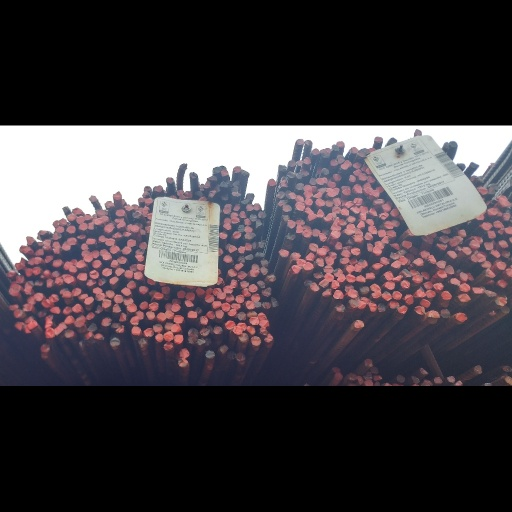dipstick: (495, 297, 508, 306), (238, 333, 249, 343), (173, 334, 184, 344), (163, 331, 173, 342), (358, 148, 370, 157), (421, 235, 433, 244), (36, 231, 49, 239), (104, 223, 114, 233), (251, 336, 261, 346), (179, 348, 189, 358), (120, 286, 130, 296), (44, 278, 54, 288), (392, 290, 402, 300), (63, 274, 74, 283), (499, 198, 510, 207), (438, 235, 449, 244), (440, 309, 451, 318), (459, 283, 470, 292), (19, 245, 31, 253), (458, 293, 470, 301), (262, 287, 271, 297), (225, 320, 235, 329), (174, 315, 184, 324), (156, 312, 166, 321), (149, 302, 159, 311), (127, 303, 137, 312), (133, 271, 143, 280), (89, 270, 99, 279), (71, 287, 81, 296), (44, 328, 54, 337), (101, 317, 111, 326), (295, 202, 305, 211), (331, 230, 341, 239), (385, 281, 395, 290), (333, 290, 343, 299), (349, 298, 358, 308), (470, 240, 480, 249), (442, 291, 452, 300), (486, 268, 495, 278), (62, 306, 73, 314), (303, 262, 314, 270), (354, 274, 365, 282), (412, 275, 423, 283), (405, 294, 413, 305), (414, 306, 425, 314), (428, 310, 439, 318), (9, 282, 21, 289), (481, 223, 493, 230), (485, 289, 497, 296), (61, 241, 70, 250), (251, 293, 260, 302), (242, 288, 251, 297), (235, 294, 244, 303), (233, 326, 242, 335), (221, 302, 230, 311), (212, 300, 221, 309), (235, 351, 244, 360), (132, 326, 141, 335), (34, 292, 43, 301), (72, 303, 81, 312), (65, 329, 74, 338), (114, 294, 123, 303), (302, 229, 311, 238), (405, 252, 414, 261), (401, 279, 410, 288), (322, 288, 331, 297), (382, 291, 391, 300), (491, 250, 500, 259), (445, 265, 454, 274), (52, 259, 62, 267), (223, 204, 231, 214), (237, 271, 247, 279), (239, 280, 249, 288), (204, 295, 214, 303), (188, 327, 198, 335), (163, 342, 173, 350), (171, 324, 181, 332), (143, 328, 153, 336), (121, 246, 131, 254), (102, 268, 112, 276), (23, 304, 33, 312), (118, 312, 126, 322), (94, 293, 104, 301), (372, 247, 382, 255), (319, 279, 329, 287), (324, 273, 334, 281), (391, 260, 401, 268), (413, 258, 423, 266), (416, 290, 426, 298), (348, 290, 358, 298), (344, 283, 354, 291), (335, 304, 345, 312), (354, 320, 364, 328), (389, 300, 399, 308), (477, 187, 487, 195), (450, 277, 460, 285), (245, 233, 256, 240), (285, 233, 296, 240), (286, 192, 297, 199), (365, 272, 376, 279), (26, 237, 35, 245), (27, 257, 35, 266), (212, 165, 221, 173), (227, 269, 236, 277), (248, 284, 257, 292), (225, 294, 234, 302), (237, 312, 246, 320), (247, 326, 255, 335), (215, 310, 224, 318), (196, 287, 205, 295), (185, 292, 194, 300), (200, 316, 208, 325), (200, 328, 209, 336), (214, 326, 223, 334), (188, 336, 197, 344), (219, 345, 228, 353), (178, 359, 187, 367), (165, 311, 174, 319), (153, 324, 162, 332), (155, 333, 163, 342), (146, 311, 154, 320), (139, 286, 148, 294), (130, 316, 138, 325), (127, 239, 136, 247), (110, 245, 119, 253), (92, 260, 101, 268), (125, 270, 133, 279), (115, 268, 124, 276), (28, 321, 37, 329), (27, 296, 35, 305), (49, 294, 58, 302), (65, 316, 74, 324), (85, 312, 94, 320), (41, 343, 50, 351), (88, 323, 97, 331), (83, 332, 92, 340), (112, 303, 120, 312), (102, 299, 110, 308), (109, 276, 118, 284), (105, 290, 114, 298), (276, 191, 285, 199), (282, 204, 291, 212), (279, 249, 288, 257), (311, 228, 320, 236), (308, 243, 317, 251), (354, 228, 363, 236), (306, 252, 314, 261), (296, 259, 305, 267), (346, 274, 355, 282), (346, 264, 355, 272), (384, 272, 393, 280), (369, 302, 377, 311), (378, 303, 386, 312), (398, 305, 407, 313), (421, 299, 430, 307), (449, 239, 458, 247), (462, 246, 471, 254), (488, 230, 496, 239), (437, 260, 445, 269), (497, 261, 506, 269), (498, 279, 507, 287), (501, 250, 510, 258), (474, 364, 482, 373), (396, 374, 405, 382), (348, 372, 357, 380), (15, 262, 25, 269), (6, 271, 16, 278), (115, 209, 125, 216), (249, 270, 259, 277), (271, 297, 278, 307), (247, 310, 257, 317), (249, 317, 259, 324), (171, 304, 181, 311), (77, 273, 87, 280), (24, 280, 34, 287), (23, 316, 33, 323), (84, 297, 94, 304), (50, 307, 60, 314), (74, 320, 84, 327), (94, 333, 104, 340), (110, 339, 120, 346), (86, 280, 96, 287), (295, 218, 305, 225), (315, 199, 325, 206), (379, 212, 389, 219), (344, 228, 354, 235), (353, 235, 363, 242), (402, 241, 412, 248), (400, 255, 407, 265), (426, 291, 436, 298), (371, 291, 381, 298), (503, 212, 510, 222), (494, 221, 504, 228), (457, 230, 467, 237), (447, 251, 457, 258), (479, 253, 486, 263), (437, 270, 447, 277), (457, 313, 467, 320), (333, 372, 343, 379), (96, 210, 107, 216), (61, 291, 72, 297), (56, 322, 67, 328), (278, 199, 289, 205), (409, 269, 420, 275), (436, 243, 447, 249), (473, 287, 484, 293), (113, 192, 121, 200), (76, 216, 84, 224), (45, 255, 53, 263), (64, 261, 72, 269), (77, 260, 85, 268), (253, 203, 261, 211), (239, 210, 247, 218), (249, 213, 257, 221), (255, 219, 263, 227), (219, 231, 227, 239), (235, 262, 243, 270), (259, 267, 267, 275), (257, 280, 265, 288), (246, 301, 254, 309), (260, 327, 268, 335), (205, 287, 213, 295), (197, 338, 205, 346), (227, 351, 235, 359), (136, 311, 144, 319), (127, 280, 135, 288), (139, 241, 147, 249), (131, 225, 139, 233), (55, 278, 63, 286), (24, 286, 32, 294), (14, 322, 22, 330), (95, 305, 103, 313), (268, 178, 276, 186), (287, 220, 295, 228), (316, 209, 324, 217), (333, 198, 341, 206), (390, 208, 398, 216), (385, 221, 393, 229), (319, 233, 327, 241), (328, 251, 336, 259), (325, 256, 333, 264), (316, 258, 324, 266), (421, 250, 429, 258), (358, 301, 366, 309), (475, 176, 483, 184), (454, 236, 462, 244), (471, 254, 479, 262), (484, 242, 492, 250), (364, 371, 372, 379), (503, 364, 511, 372), (67, 214, 76, 221), (105, 201, 114, 208), (66, 226, 75, 233), (67, 238, 76, 245), (34, 249, 43, 256), (41, 270, 50, 277), (194, 190, 203, 197), (232, 231, 241, 238), (267, 275, 276, 282), (223, 286, 232, 293), (231, 303, 240, 310), (259, 320, 268, 327), (265, 334, 272, 343), (227, 309, 236, 316), (213, 288, 222, 295), (184, 300, 193, 307), (188, 311, 197, 318), (205, 350, 214, 357), (135, 255, 144, 262), (135, 248, 144, 255), (118, 257, 127, 264), (34, 279, 43, 286), (9, 289, 18, 296), (54, 328, 63, 335), (98, 278, 107, 285), (278, 165, 287, 172), (287, 171, 296, 178), (300, 169, 309, 176), (308, 214, 317, 221), (304, 198, 313, 205), (354, 186, 363, 193), (342, 188, 351, 195), (340, 208, 349, 215), (360, 206, 369, 213), (317, 248, 326, 255), (351, 248, 360, 255), (368, 227, 377, 234), (377, 230, 386, 237), (375, 241, 384, 248), (390, 243, 399, 250), (390, 252, 399, 259), (380, 257, 389, 264), (373, 263, 382, 270), (340, 257, 349, 264), (291, 253, 300, 260), (310, 283, 319, 290), (424, 282, 433, 289), (360, 286, 369, 293), (361, 297, 370, 304), (388, 138, 397, 145), (488, 207, 497, 214), (474, 236, 483, 243), (499, 240, 508, 247), (419, 367, 428, 374), (72, 208, 82, 214), (54, 227, 64, 233), (92, 287, 102, 293), (315, 178, 325, 184), (303, 192, 313, 198), (374, 199, 384, 205), (370, 284, 380, 290), (433, 283, 443, 289), (506, 267, 512, 277), (16, 275, 23, 283), (25, 268, 32, 276), (32, 267, 40, 274), (51, 270, 59, 277), (84, 255, 92, 262), (81, 243, 89, 250), (106, 239, 114, 246), (144, 198, 152, 205), (184, 191, 192, 198), (189, 172, 197, 179), (233, 166, 241, 173), (241, 169, 249, 176), (246, 204, 254, 211), (258, 211, 266, 218), (238, 246, 245, 254), (245, 243, 252, 251), (260, 259, 268, 266), (251, 263, 259, 270), (258, 312, 266, 319), (238, 323, 246, 330), (177, 291, 185, 298), (164, 303, 171, 311), (154, 292, 162, 299), (140, 301, 147, 309), (139, 339, 147, 346), (136, 263, 144, 270), (102, 253, 110, 260), (91, 251, 99, 258), (110, 260, 118, 267), (13, 310, 21, 317), (42, 300, 50, 307), (116, 326, 124, 333), (288, 160, 296, 167), (303, 157, 311, 164), (296, 195, 304, 202), (350, 147, 358, 154), (375, 136, 383, 143), (304, 185, 312, 192), (333, 174, 341, 181), (325, 200, 333, 207), (332, 206, 340, 213), (371, 190, 379, 197), (366, 219, 374, 226), (357, 221, 365, 228), (387, 230, 395, 237), (359, 259, 367, 266), (324, 266, 332, 273), (292, 266, 300, 273), (402, 269, 410, 276), (422, 271, 429, 279), (488, 187, 495, 195), (483, 260, 490, 268), (460, 273, 467, 281), (447, 376, 455, 383), (411, 376, 419, 383), (365, 359, 372, 367), (505, 376, 512, 384), (254, 252, 265, 257), (52, 233, 61, 239), (82, 250, 91, 256), (76, 234, 85, 240), (98, 236, 107, 242), (132, 212, 141, 218), (153, 186, 162, 192), (230, 186, 239, 192), (231, 218, 240, 224), (244, 226, 253, 232), (262, 302, 271, 308), (208, 310, 214, 319), (124, 298, 133, 304), (112, 232, 121, 238), (99, 249, 108, 255), (9, 304, 18, 310), (59, 287, 68, 293), (78, 293, 87, 299), (281, 214, 290, 220), (305, 208, 314, 214), (313, 192, 322, 198), (359, 174, 368, 180), (345, 201, 354, 207), (331, 224, 340, 230), (341, 251, 350, 257), (349, 258, 358, 264), (313, 272, 322, 278), (429, 255, 435, 264), (393, 275, 402, 281), (456, 162, 465, 168), (434, 377, 443, 383), (373, 375, 382, 381), (86, 239, 96, 244), (114, 218, 124, 223), (252, 240, 257, 250), (24, 323, 29, 333), (75, 315, 85, 320), (497, 194, 507, 199), (89, 195, 96, 202), (59, 219, 66, 226), (166, 177, 173, 184), (221, 193, 228, 200), (233, 204, 240, 211), (224, 217, 231, 224), (244, 218, 251, 225), (229, 246, 236, 253), (312, 148, 319, 155), (280, 181, 287, 188), (296, 183, 303, 190), (296, 172, 303, 179), (322, 168, 329, 175), (325, 214, 332, 221), (368, 176, 375, 183), (354, 198, 361, 205), (392, 220, 399, 227), (335, 242, 342, 249), (365, 232, 372, 239), (332, 281, 339, 288), (94, 218, 102, 224), (84, 214, 92, 220), (52, 242, 60, 248), (69, 266, 77, 272), (117, 222, 125, 228), (124, 204, 132, 210), (209, 190, 215, 198), (230, 212, 238, 218), (223, 224, 231, 230), (258, 240, 264, 248), (223, 256, 231, 262), (237, 257, 245, 263), (245, 254, 253, 260), (217, 277, 223, 285), (217, 293, 225, 299), (161, 287, 169, 293), (123, 231, 131, 237), (38, 310, 46, 316), (296, 225, 302, 233), (330, 159, 338, 165), (353, 162, 361, 168), (351, 207, 359, 213), (370, 208, 376, 216), (376, 186, 384, 192), (347, 216, 355, 222), (338, 220, 346, 226), (367, 243, 373, 251), (338, 274, 344, 282), (335, 268, 341, 276), (467, 272, 473, 280), (364, 380, 372, 386), (42, 240, 51, 245), (219, 182, 228, 187), (232, 192, 241, 197), (218, 248, 223, 257), (231, 279, 236, 288), (172, 299, 181, 304), (111, 322, 120, 327), (346, 223, 355, 228), (470, 162, 479, 167), (498, 208, 503, 217), (358, 375, 363, 384), (206, 176, 217, 180), (62, 207, 69, 213), (79, 224, 86, 230), (43, 244, 50, 250), (52, 220, 59, 226), (35, 258, 41, 265), (180, 163, 187, 169), (221, 170, 228, 176), (246, 194, 253, 200), (237, 225, 244, 231), (254, 301, 261, 307), (148, 279, 155, 285), (46, 315, 53, 321), (45, 321, 52, 327), (310, 178, 316, 185), (332, 144, 339, 150), (337, 141, 344, 147), (341, 163, 348, 169), (345, 160, 352, 166), (333, 188, 339, 195), (349, 175, 355, 182), (365, 187, 372, 193), (383, 204, 389, 211), (360, 213, 366, 220), (382, 237, 388, 244), (398, 249, 405, 255), (450, 141, 457, 147), (492, 184, 498, 191), (455, 380, 462, 386), (371, 367, 378, 373), (142, 192, 150, 197), (143, 186, 151, 191), (176, 190, 184, 195), (126, 223, 131, 231), (145, 225, 150, 233), (148, 212, 153, 220), (304, 140, 312, 145), (321, 153, 329, 158), (336, 154, 344, 159), (331, 212, 336, 220), (318, 188, 326, 193), (340, 185, 350, 189), (303, 280, 311, 285), (332, 367, 340, 372), (20, 258, 26, 264), (71, 259, 77, 265), (233, 180, 239, 186), (297, 139, 303, 145), (296, 160, 302, 166), (327, 193, 336, 197), (415, 129, 421, 135), (101, 216, 108, 221), (142, 210, 147, 217), (178, 195, 185, 200), (199, 184, 204, 191), (205, 181, 210, 188), (226, 244, 233, 249), (130, 264, 135, 271), (325, 147, 332, 152), (328, 182, 335, 187), (354, 170, 361, 175), (444, 142, 449, 149), (241, 199, 249, 203), (343, 246, 351, 250), (132, 204, 138, 209), (138, 197, 143, 203), (140, 229, 145, 235), (366, 168, 371, 174), (364, 182, 370, 187), (387, 201, 392, 207), (142, 206, 149, 210), (322, 246, 329, 250), (281, 176, 286, 181), (327, 187, 332, 192), (361, 166, 366, 171), (53, 249, 59, 253), (320, 149, 327, 152), (312, 186, 315, 193), (338, 159, 343, 163), (374, 381, 378, 386), (354, 184, 361, 186)
